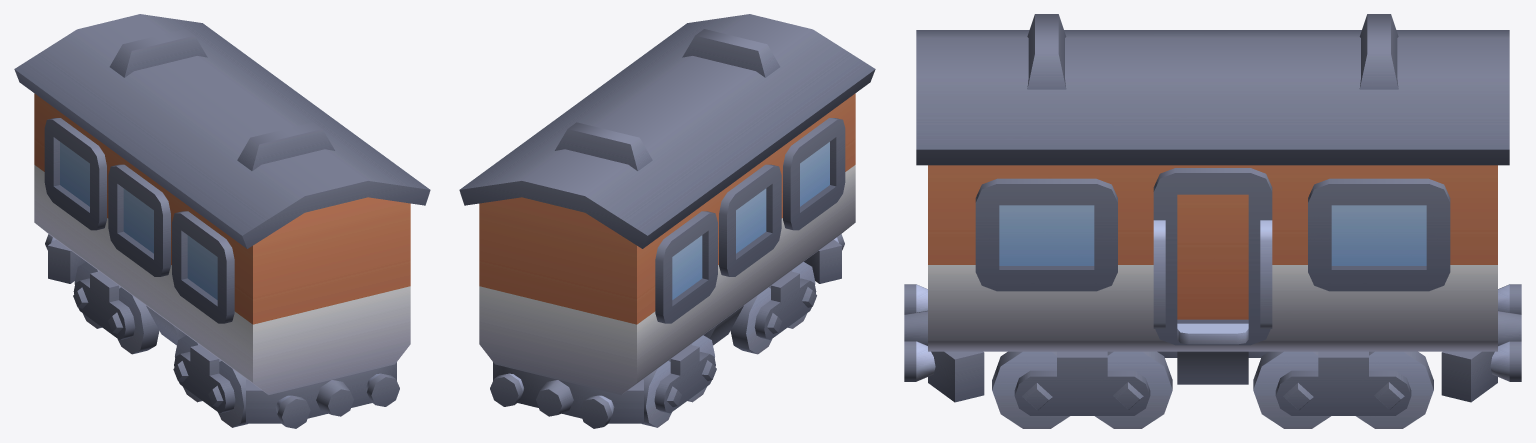
Rendered from kenney-train-train-locomotive-passenger-b.glb.
3 renders of one model, left to right at view 1: azimuth 30°, elevation 25°; view 2: azimuth 150°, elevation 25°; view 3: azimuth 270°, elevation 25°, orthographic. The views are drawn at different scales.
Parts seen in each view (by area): view 1: train-locomotive-passenger-b, wheels-back, wheels-front; view 2: train-locomotive-passenger-b, wheels-front, wheels-back; view 3: train-locomotive-passenger-b, wheels-front, wheels-back.
Boxes of the visible parts, <box> form: train-locomotive-passenger-b: <box>14,14,430,428</box>; wheels-back: <box>73,262,159,354</box>; wheels-front: <box>173,335,247,427</box>; train-locomotive-passenger-b: <box>459,14,875,428</box>; wheels-front: <box>730,262,816,354</box>; wheels-back: <box>642,335,716,427</box>; train-locomotive-passenger-b: <box>904,14,1521,402</box>; wheels-front: <box>992,351,1172,428</box>; wheels-back: <box>1253,351,1433,428</box>.
Bounding box in the file's own units: 1.25 × 1.65 × 2.6.
1 material, 1 textured.
